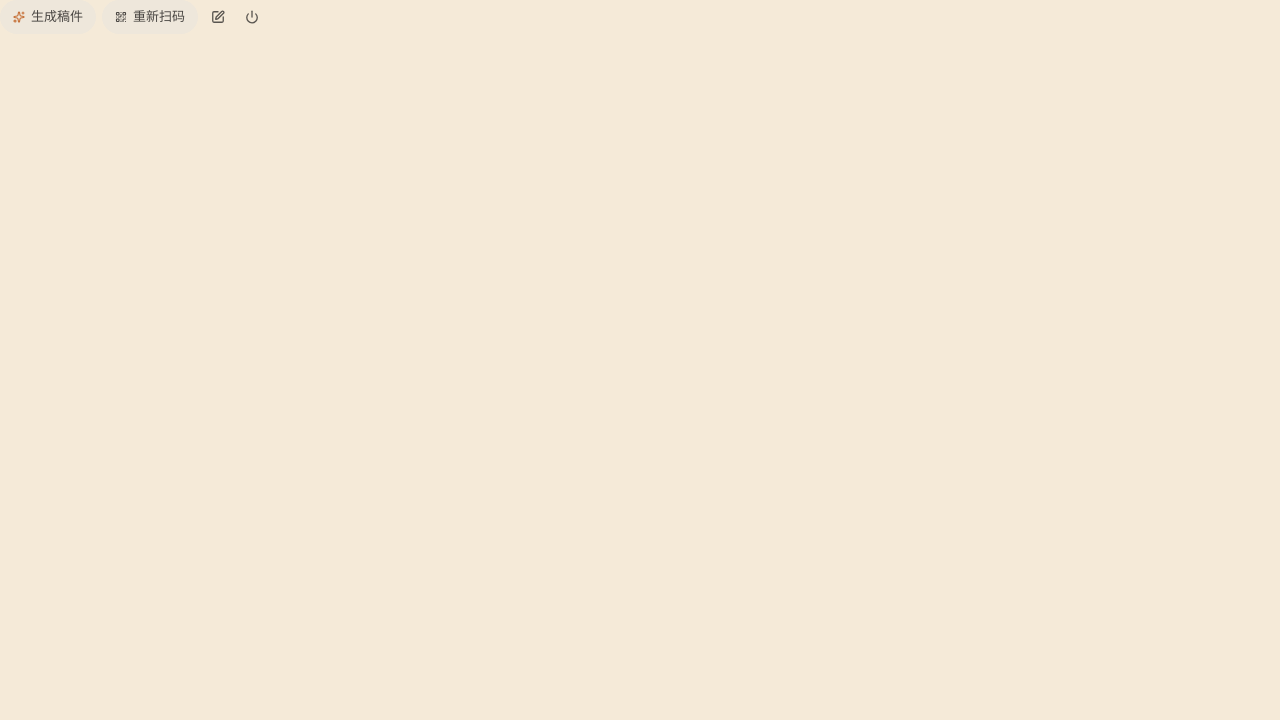
Test case: 出稿弹层的配图控件（P14.B4：勾选框 + 张数选择器合并成一条 Segmented） › 额度用完时同样不渲染配图控件，说明写清楚是额度问题
Click the button with test id "generate-button": (48, 17) [0,0,96,34]
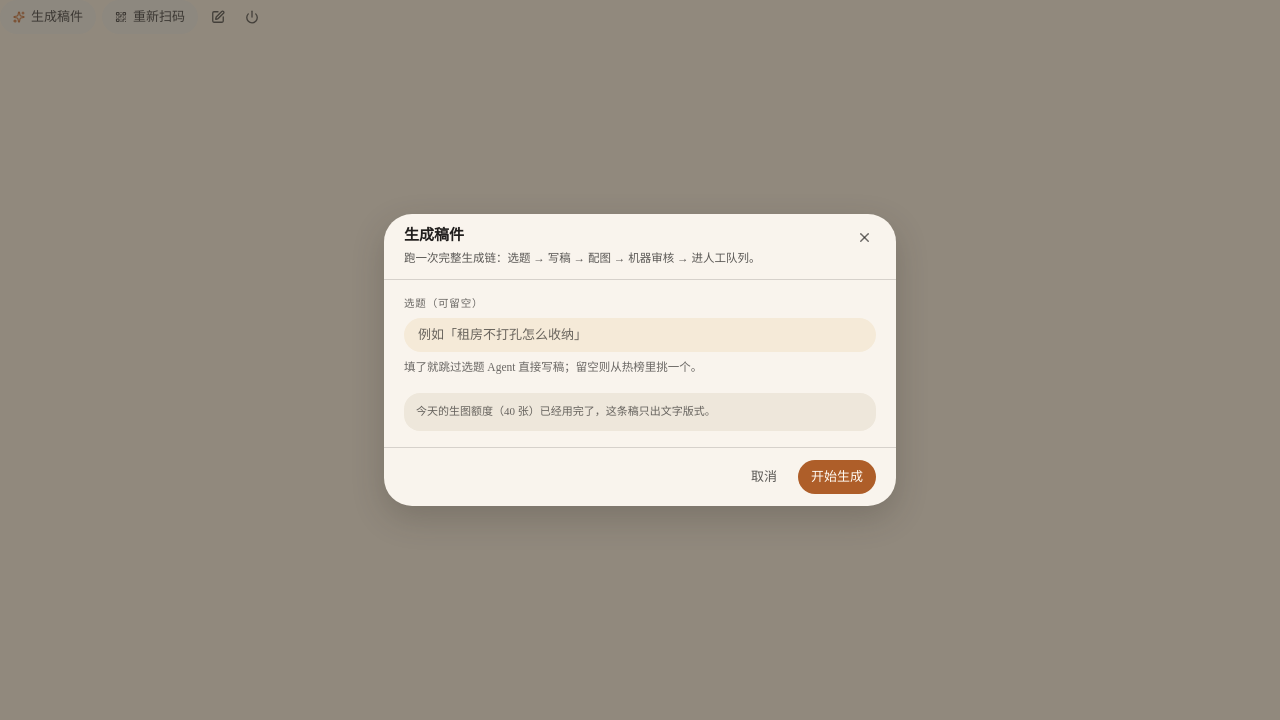
Check: the button with test id "generate-submit" is shown, box [798,460,876,494]
Check: the text with test id "imagegen-note" shows "已经用完", box [515,405,716,417]
